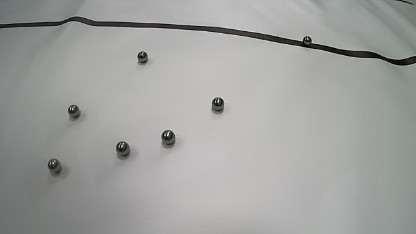ironball: (116, 141, 130, 156), (161, 130, 175, 145), (47, 158, 61, 173), (67, 104, 80, 118), (211, 97, 224, 111), (137, 51, 148, 64), (303, 36, 312, 45)
